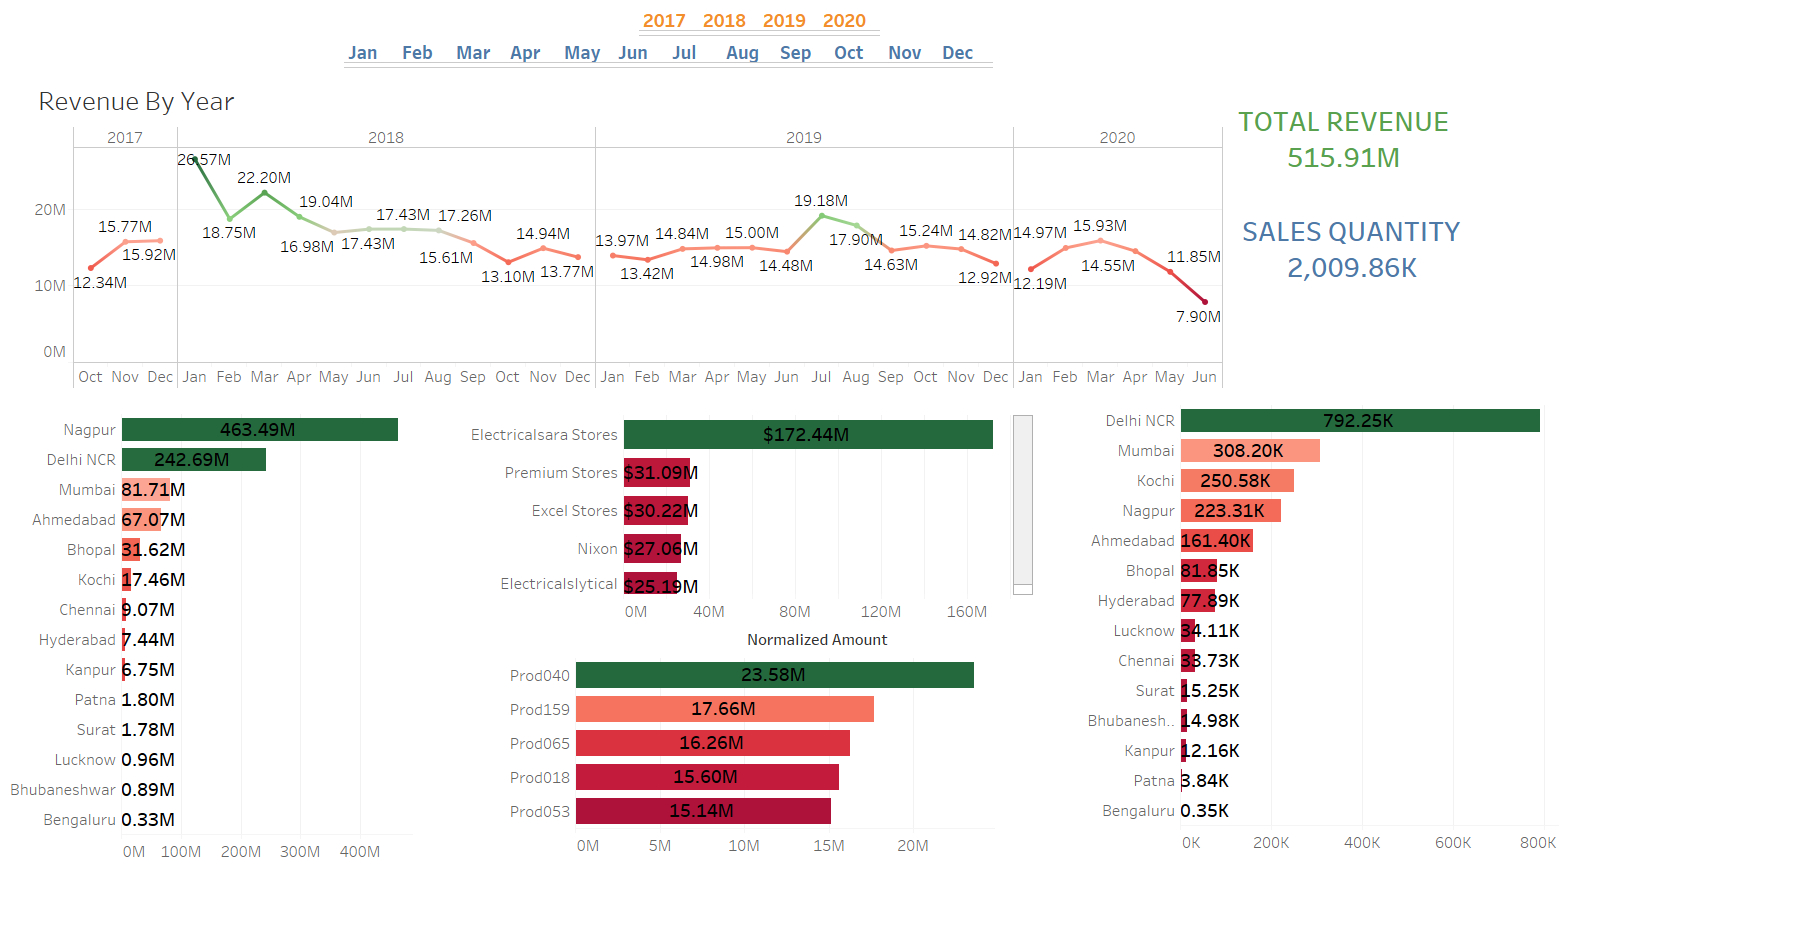

What the dashboard file says about the page in this screenshot:
{"tool":"tableau","page":{"name":"Dashboard 1","canvas":[1800,950],"ordinal":0},"visuals":[{"type":"worksheet","title":"Year","mark":"Automatic","cols":["cy_date"],"box":[639,9.5,435.6,36.8]},{"type":"worksheet","title":"Month","mark":"Automatic","cols":["cy_date"],"box":[344.4,42.2,1221.6,39.1]},{"type":"worksheet","title":"Revenue By Year","mark":"Automatic","rows":["Calculation_195906617653985281"],"cols":["cy_date","cy_date"],"box":[34,77,1189,311]},{"type":"worksheet","title":"Revenue","mark":"Automatic","box":[1234,81,325,102]},{"type":"worksheet","title":"Quantity","mark":"Automatic","box":[1232,191,296,102]},{"type":"worksheet","title":"Sales Quantity By Markets","mark":"Automatic","rows":["markets_name"],"cols":["sales_qty"],"box":[1084,405,474,512]},{"type":"worksheet","title":"Top 5 Customers","mark":"Automatic","rows":["custmer_name"],"cols":["Calculation_195906617653985281"],"box":[433,415,600,242]}]}

Visuals, with their boxes in screenshot pixels (x1, y1, x2, y2), scaled from the page's 1800x950 canvas onto the 1800x950 screenshot:
"Year" worksheet: {"x1": 639, "y1": 10, "x2": 1075, "y2": 46}
"Month" worksheet: {"x1": 344, "y1": 42, "x2": 1566, "y2": 81}
"Revenue By Year" worksheet: {"x1": 34, "y1": 77, "x2": 1223, "y2": 388}
"Revenue" worksheet: {"x1": 1234, "y1": 81, "x2": 1559, "y2": 183}
"Quantity" worksheet: {"x1": 1232, "y1": 191, "x2": 1528, "y2": 293}
"Sales Quantity By Markets" worksheet: {"x1": 1084, "y1": 405, "x2": 1558, "y2": 917}
"Top 5 Customers" worksheet: {"x1": 433, "y1": 415, "x2": 1033, "y2": 657}
